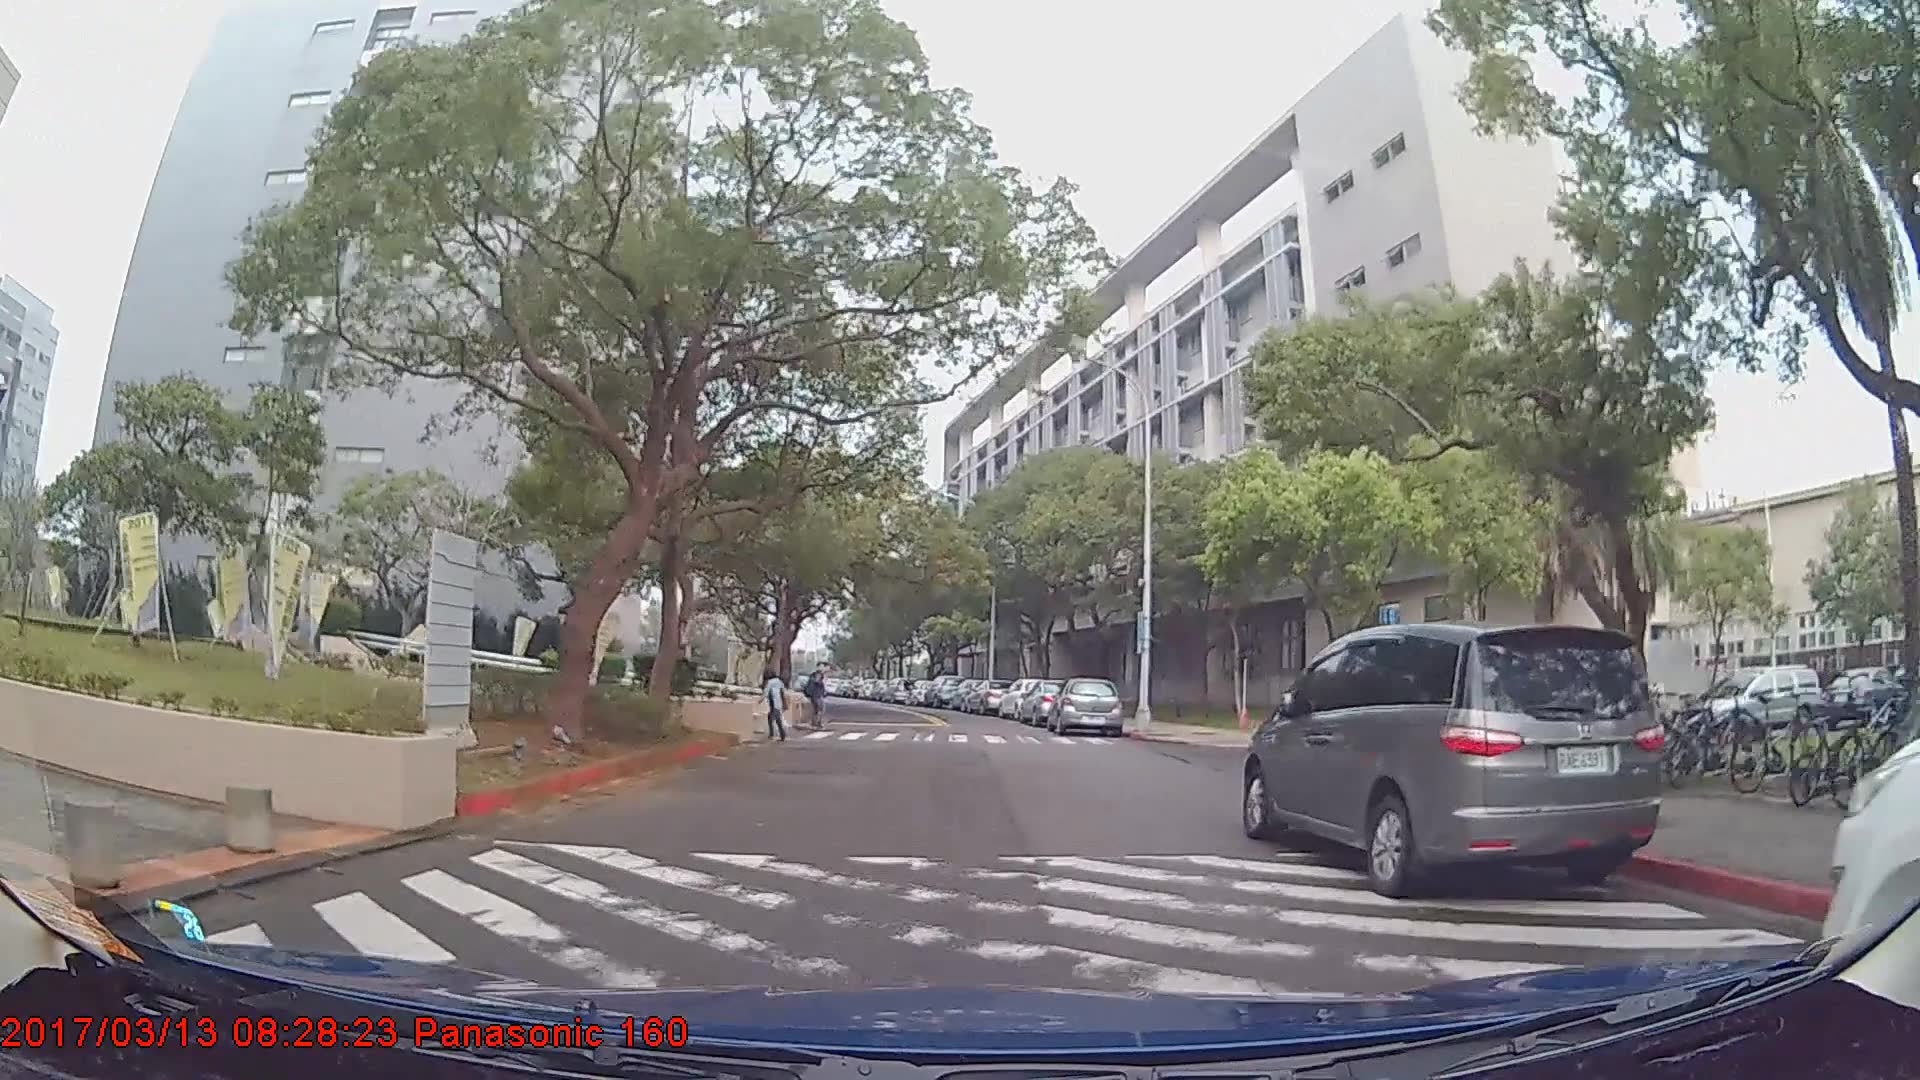pedestrian: (761, 673, 791, 746), (804, 661, 830, 737)
vehicle: (1241, 619, 1667, 900), (1686, 662, 1823, 744), (1819, 663, 1905, 724), (1051, 677, 1123, 738), (1016, 677, 1080, 726), (921, 674, 963, 709), (965, 682, 1008, 716)
